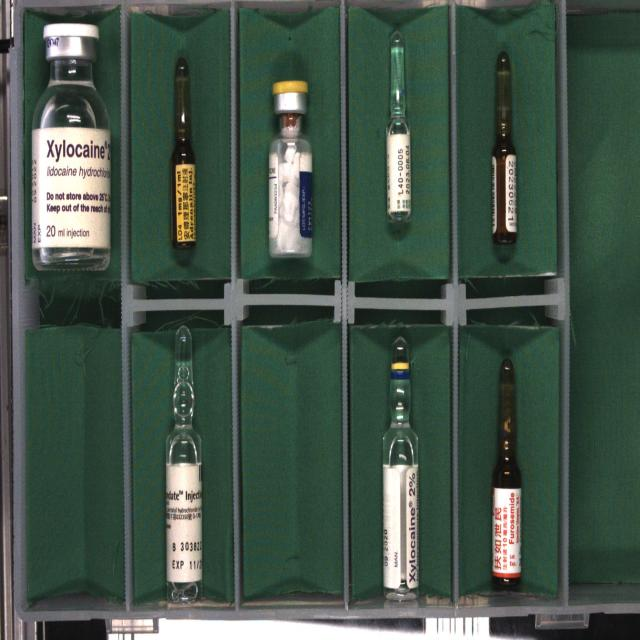Vials: (31, 23, 111, 270), (269, 81, 312, 258)
